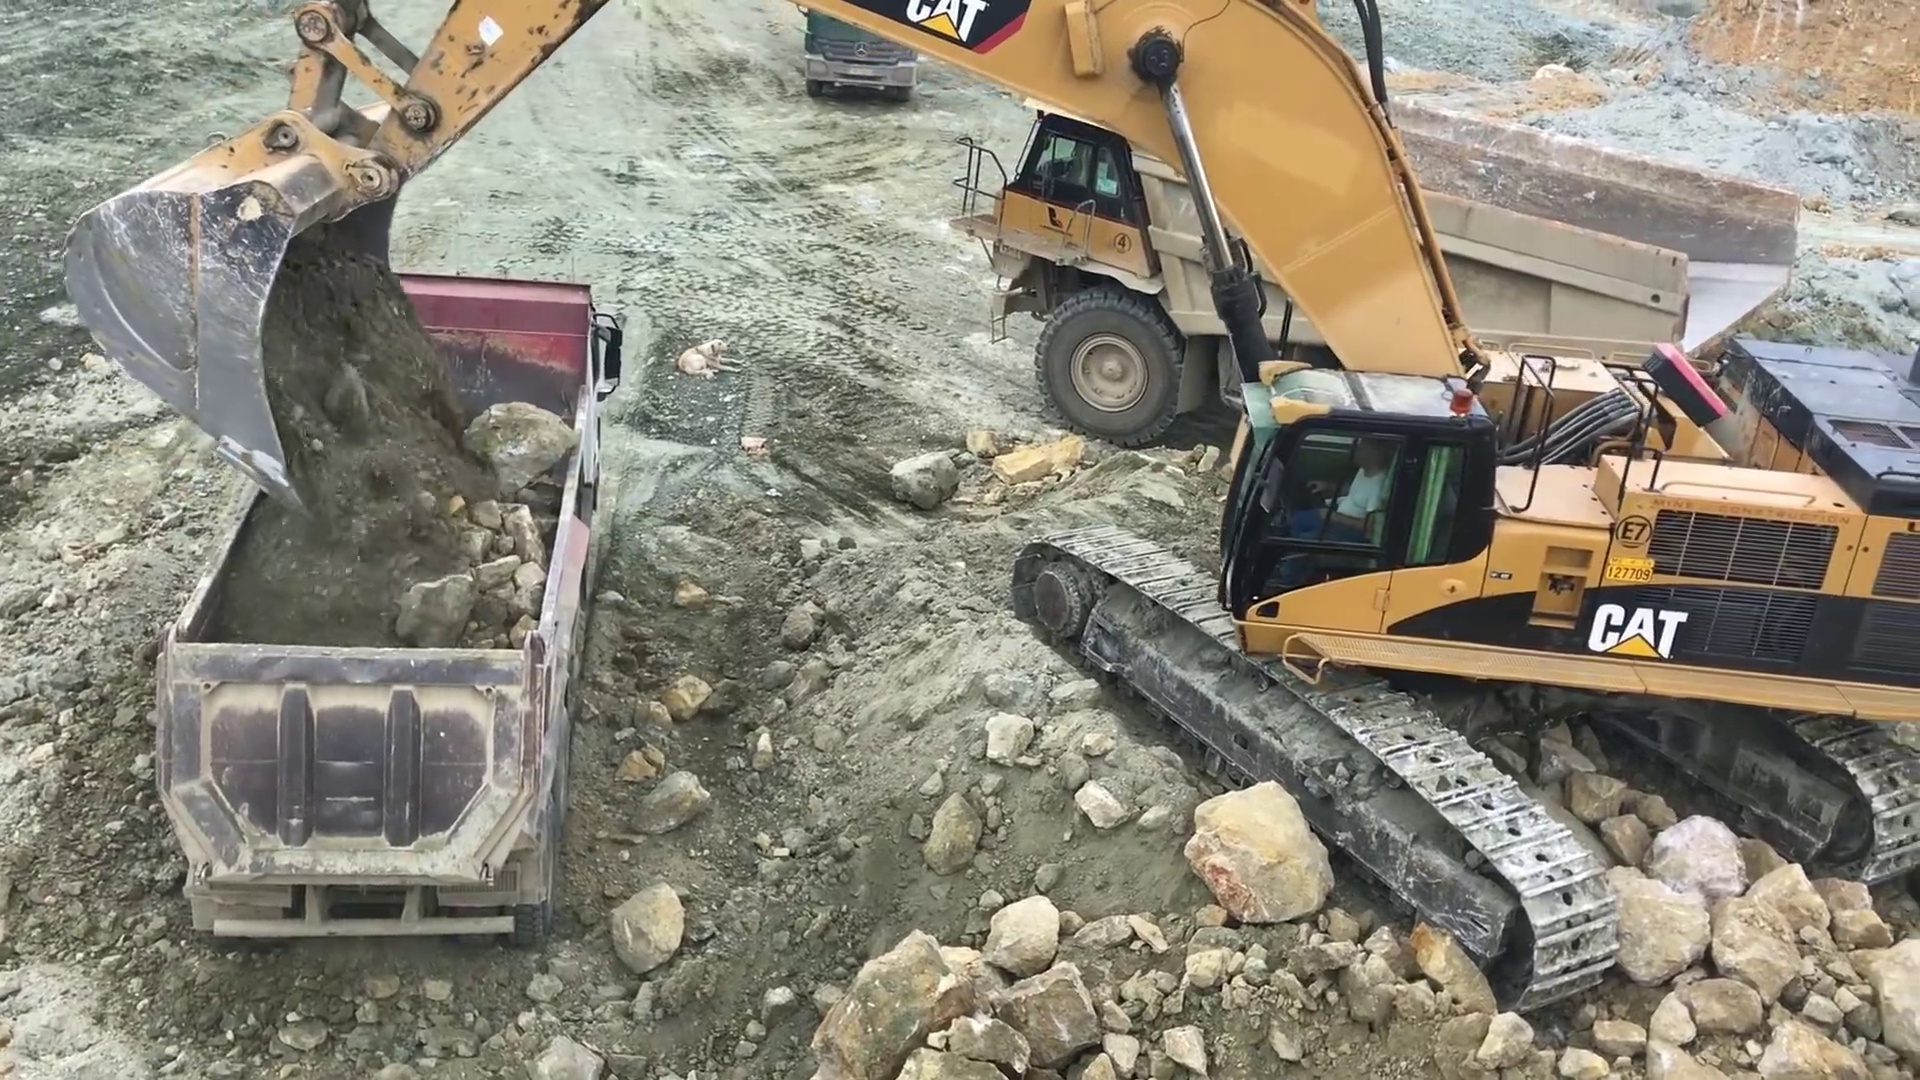dumper: (950, 83, 1806, 445)
excavator: (57, 8, 1920, 1014)
person: (1294, 446, 1389, 546)
truck: (161, 259, 620, 953)
